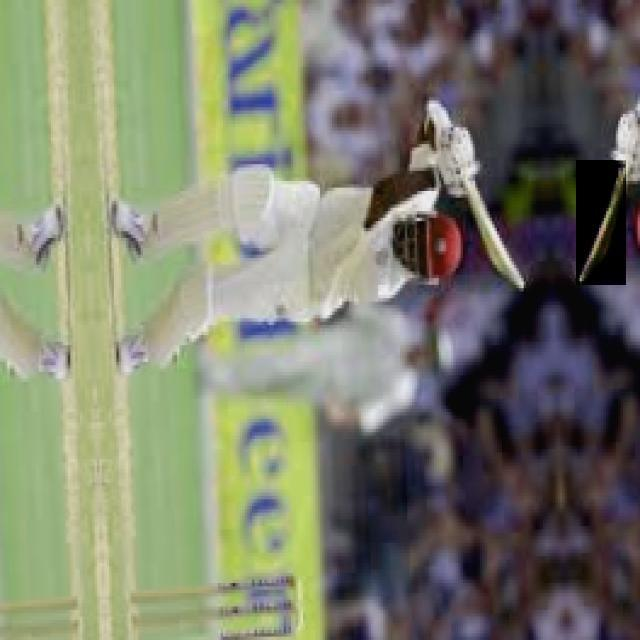bat: (460, 176, 531, 317)
